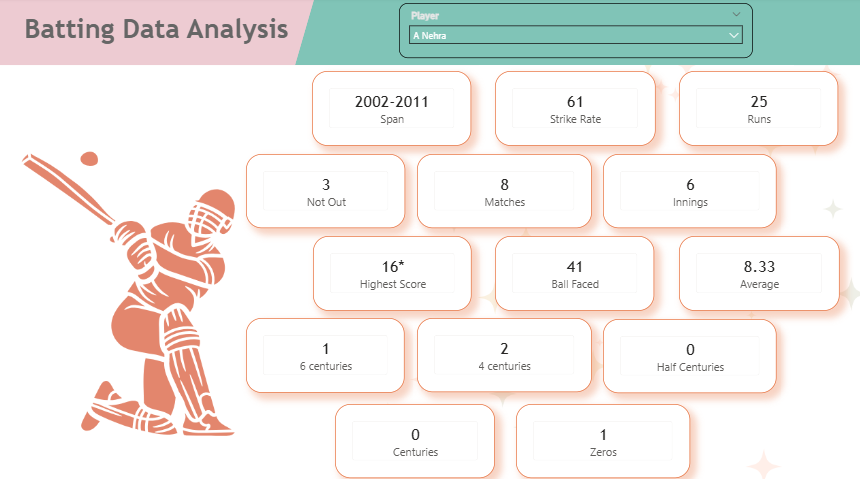

What the dashboard file says about the page in this screenshot:
{"tool":"powerbi","page":{"name":"Batting","canvas":[1280,720],"ordinal":1},"visuals":[{"type":"shape","box":[0,0,706.9,100],"z":0},{"type":"shape","box":[437.5,0,843.1,100],"z":1000},{"type":"shape","box":[1170.8,0,109.7,100],"z":2000},{"type":"slicer","fields":{"Values":["Batting.Player"]},"box":[590.7,8.8,520.2,80.8],"z":3000},{"type":"cardVisual","fields":{"Data":["Min(Batting.Span)"]},"box":[463.4,108.7,234.3,110],"z":4000},{"type":"cardVisual","fields":{"Data":["Sum(Batting.SR)"]},"box":[732.4,108.7,235.6,110],"z":5000},{"type":"cardVisual","fields":{"Data":["Sum(Batting.Runs)"]},"box":[1002.8,108.7,234.3,110],"z":6000},{"type":"cardVisual","fields":{"Data":["Sum(Batting.NO)"]},"box":[365.2,230.4,234.3,108.7],"z":7000},{"type":"cardVisual","fields":{"Data":["Sum(Batting.Mat)"]},"box":[616.6,230.4,256.6,108.7],"z":8000},{"type":"cardVisual","fields":{"Data":["Sum(Batting.Inns)"]},"box":[890.2,230.4,255.3,108.7],"z":9000},{"type":"cardVisual","fields":{"Data":["Min(Batting.HS)"]},"box":[464.7,350.8,233,110],"z":10000},{"type":"cardVisual","fields":{"Data":["Sum(Batting.BF)"]},"box":[732.4,350.8,234.3,110],"z":11000},{"type":"cardVisual","fields":{"Data":["Sum(Batting.Ave)"]},"box":[1001.5,350.8,235.6,110],"z":12000},{"type":"cardVisual","fields":{"Data":["Sum(Batting.6s)"]},"box":[366.5,471.3,233,110],"z":13000},{"type":"cardVisual","fields":{"Data":["Sum(Batting.4s)"]},"box":[616.6,471.3,256.6,108.7],"z":14000},{"type":"cardVisual","fields":{"Data":["Sum(Batting.50)"]},"box":[890.2,472.6,255.3,108.7],"z":15000},{"type":"cardVisual","fields":{"Data":["Sum(Batting.100)"]},"box":[496.7,598,235.1,108.7],"z":16000},{"type":"cardVisual","fields":{"Data":["Sum(Batting.0)"]},"box":[762.6,598,255.7,108.7],"z":17000}]}

Visuals, with their boxes in screenshot pixels (x1, y1, x2, y2), scaled from the page's 1280x720 canvas onto the 860x479 screenshot:
shape: left=0, top=0, right=475, bottom=67
shape: left=294, top=0, right=859, bottom=67
shape: left=787, top=0, right=859, bottom=67
slicer - Batting.Player: left=397, top=6, right=746, bottom=60
cardVisual - Min(Batting.Span): left=311, top=72, right=469, bottom=145
cardVisual - Sum(Batting.SR): left=492, top=72, right=650, bottom=145
cardVisual - Sum(Batting.Runs): left=674, top=72, right=831, bottom=145
cardVisual - Sum(Batting.NO): left=245, top=153, right=403, bottom=226
cardVisual - Sum(Batting.Mat): left=414, top=153, right=587, bottom=226
cardVisual - Sum(Batting.Inns): left=598, top=153, right=770, bottom=226
cardVisual - Min(Batting.HS): left=312, top=233, right=469, bottom=307
cardVisual - Sum(Batting.BF): left=492, top=233, right=650, bottom=307
cardVisual - Sum(Batting.Ave): left=673, top=233, right=831, bottom=307
cardVisual - Sum(Batting.6s): left=246, top=314, right=403, bottom=387
cardVisual - Sum(Batting.4s): left=414, top=314, right=587, bottom=386
cardVisual - Sum(Batting.50): left=598, top=314, right=770, bottom=387
cardVisual - Sum(Batting.100): left=334, top=398, right=492, bottom=470
cardVisual - Sum(Batting.0): left=512, top=398, right=684, bottom=470
